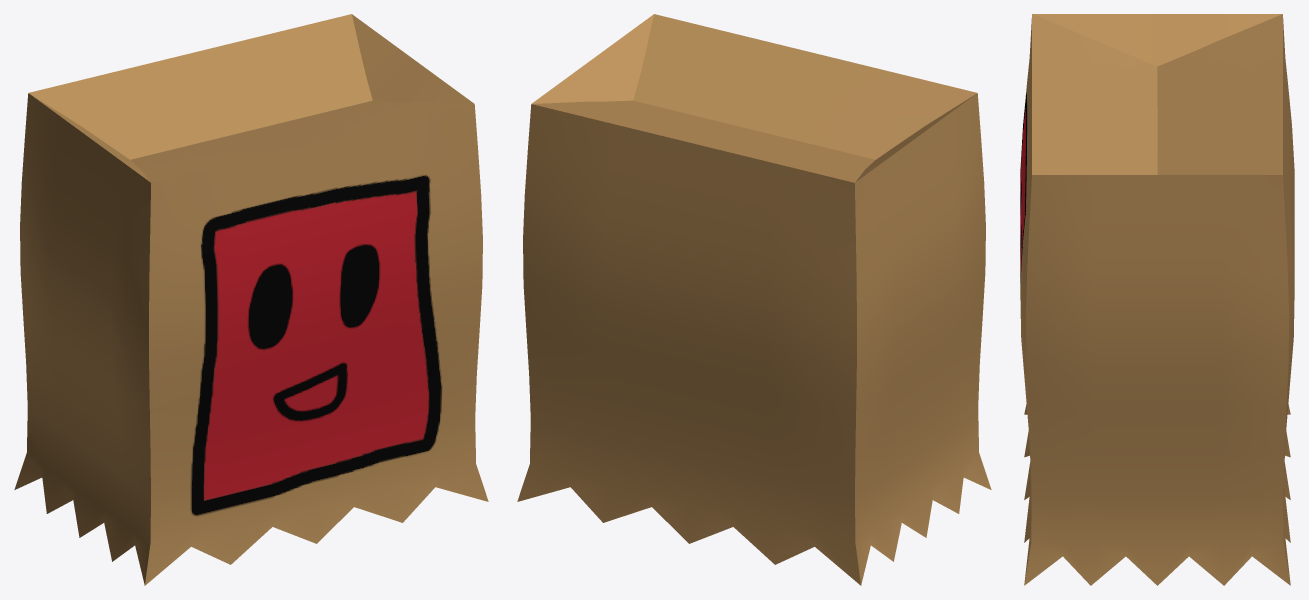
Rendered from ThatBox_LowPoly.fbx.
3 renders of one model, left to right at view 1: azimuth 30°, elevation 25°; view 2: azimuth 150°, elevation 25°; view 3: azimuth 270°, elevation 25°, orthographic. The views are drawn at different scales.
Visible parts, largest first — view 1: Shape; view 2: Shape; view 3: Shape.
Part boxes in pixels (left/top/right/bottom): Shape: left=14, top=14, right=488, bottom=585; Shape: left=517, top=14, right=991, bottom=585; Shape: left=1020, top=14, right=1294, bottom=585.
Bounding box in the file's own units: 213 × 144 × 235.
